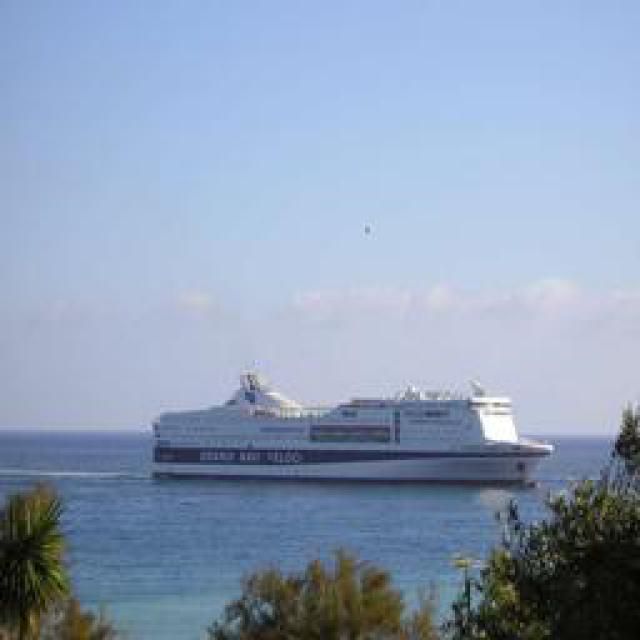Ship: (153, 370, 561, 488)
